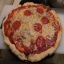basil: (9, 19, 24, 32)
pepperoni: (35, 36, 48, 50), (32, 21, 44, 34), (41, 17, 50, 26), (24, 8, 32, 18), (36, 9, 45, 15)
pizza: (3, 2, 62, 58)
